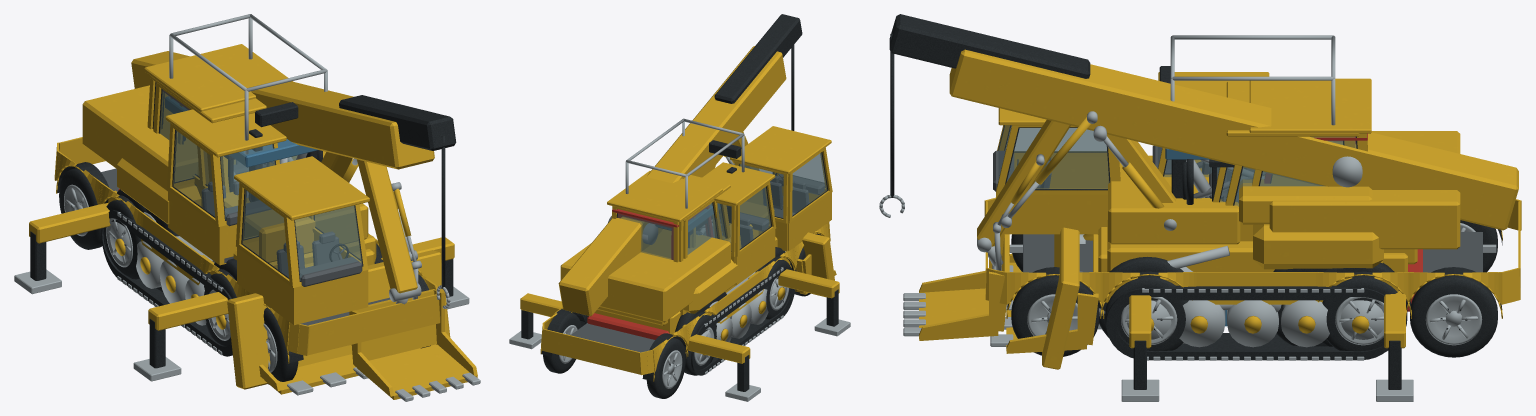
Rendered from vehicle_03.glb.
3 renders of one model, left to right at view 1: azimuth 30°, elevation 25°; view 2: azimuth 150°, elevation 25°; view 3: azimuth 270°, elevation 25°, orthographic. The views are drawn at different scales.
Parts seen in each view (by area): view 1: vehicle_076_Body_Paint_LOD0, vehicle_067_Body_Paint_LOD0, vehicle_071_Body_Paint_LOD0, vehicle_076_Body_Rubber_LOD0, vehicle_076_Body_Glass_LOD0, vehicle_067_Body_Glass_LOD0, vehicle_069_Body_Paint_LOD0, vehicle_071_Body_Metal_LOD0, vehicle_076_Body_Interior_LOD0, vehicle_071_Body_Rubber_LOD0, vehicle_077_Body_Metal_LOD0, vehicle_076_Body_Metal_LOD0 (+14 smaller); view 2: vehicle_076_Body_Paint_LOD0, vehicle_071_Body_Paint_LOD0, vehicle_067_Body_Paint_LOD0, vehicle_076_Body_Rubber_LOD0, vehicle_076_Body_Interior_LOD0, vehicle_071_Body_Glass_LOD0, vehicle_076_Body_Glass_LOD0, vehicle_069_Body_Paint_LOD0, vehicle_067_Body_Glass_LOD0, vehicle_071_Body_Metal_LOD0, vehicle_079_Body_Paint_LOD0, vehicle_071_Body_Rubber_LOD0 (+12 smaller); view 3: vehicle_076_Body_Paint_LOD0, vehicle_067_Body_Paint_LOD0, vehicle_071_Body_Paint_LOD0, vehicle_076_Body_Rubber_LOD0, vehicle_071_Body_Metal_LOD0, vehicle_071_Body_Rubber_LOD0, vehicle_069_Body_Paint_LOD0, vehicle_076_Body_Glass_LOD0, vehicle_076_Body_Interior_LOD0, vehicle_076_Wheel_07_Rubber_LOD0, vehicle_076_Body_Metal_LOD0, vehicle_067_Body_Metal_LOD0 (+14 smaller).
Boxes of the visible parts, bbox=[...] form: vehicle_076_Body_Paint_LOD0: bbox=[29, 51, 454, 363]; vehicle_067_Body_Paint_LOD0: bbox=[117, 109, 477, 399]; vehicle_071_Body_Paint_LOD0: bbox=[115, 44, 450, 389]; vehicle_076_Body_Rubber_LOD0: bbox=[30, 95, 456, 368]; vehicle_076_Body_Glass_LOD0: bbox=[242, 190, 361, 280]; vehicle_067_Body_Glass_LOD0: bbox=[173, 130, 275, 219]; vehicle_069_Body_Paint_LOD0: bbox=[150, 75, 436, 394]; vehicle_071_Body_Metal_LOD0: bbox=[109, 212, 230, 355]; vehicle_076_Body_Interior_LOD0: bbox=[101, 168, 390, 325]; vehicle_071_Body_Rubber_LOD0: bbox=[101, 82, 322, 356]; vehicle_077_Body_Metal_LOD0: bbox=[169, 14, 327, 197]; vehicle_076_Body_Metal_LOD0: bbox=[14, 153, 469, 381]; vehicle_076_Body_Paint_LOD0: bbox=[520, 46, 839, 381]; vehicle_071_Body_Paint_LOD0: bbox=[607, 171, 834, 340]; vehicle_067_Body_Paint_LOD0: bbox=[682, 132, 781, 355]; vehicle_076_Body_Rubber_LOD0: bbox=[521, 14, 838, 391]; vehicle_076_Body_Interior_LOD0: bbox=[571, 173, 825, 352]; vehicle_071_Body_Glass_LOD0: bbox=[617, 203, 714, 259]; vehicle_076_Body_Glass_LOD0: bbox=[739, 153, 826, 217]; vehicle_069_Body_Paint_LOD0: bbox=[594, 175, 836, 334]; vehicle_067_Body_Glass_LOD0: bbox=[715, 187, 771, 250]; vehicle_071_Body_Metal_LOD0: bbox=[696, 267, 786, 374]; vehicle_079_Body_Paint_LOD0: bbox=[587, 205, 713, 339]; vehicle_071_Body_Rubber_LOD0: bbox=[616, 202, 795, 375]; vehicle_076_Body_Paint_LOD0: bbox=[949, 49, 1521, 348]; vehicle_067_Body_Paint_LOD0: bbox=[919, 72, 1383, 340]; vehicle_071_Body_Paint_LOD0: bbox=[1042, 78, 1382, 369]; vehicle_076_Body_Rubber_LOD0: bbox=[889, 14, 1502, 389]; vehicle_071_Body_Metal_LOD0: bbox=[1088, 245, 1383, 360]; vehicle_071_Body_Rubber_LOD0: bbox=[1106, 136, 1388, 360]; vehicle_069_Body_Paint_LOD0: bbox=[1006, 81, 1417, 353]; vehicle_076_Body_Glass_LOD0: bbox=[998, 125, 1109, 189]; vehicle_076_Body_Interior_LOD0: bbox=[993, 150, 1482, 272]; vehicle_076_Wheel_07_Rubber_LOD0: bbox=[1410, 275, 1497, 357]; vehicle_076_Body_Metal_LOD0: bbox=[879, 156, 1496, 401]; vehicle_067_Body_Metal_LOD0: bbox=[903, 111, 1306, 347].
Size of what is drawn, in the model's own units: 4.98 by 4.39 by 8.15.
Materials: 6 (4 with a texture image).
